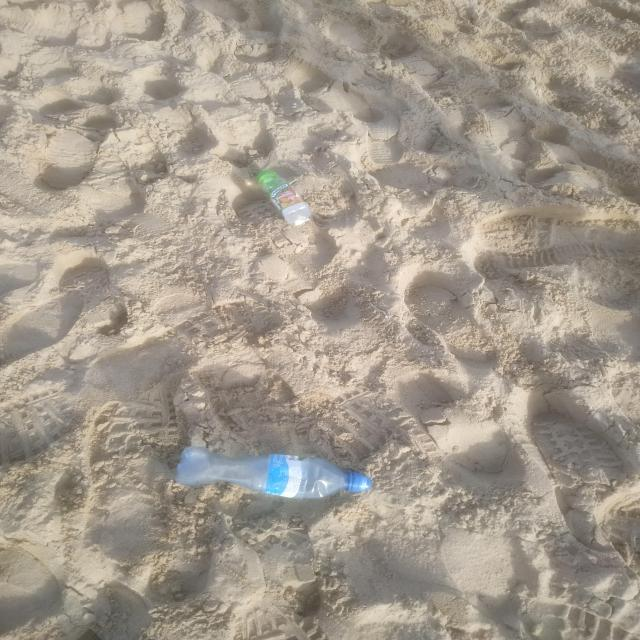litter: (152, 432, 409, 514), (240, 164, 331, 231)
